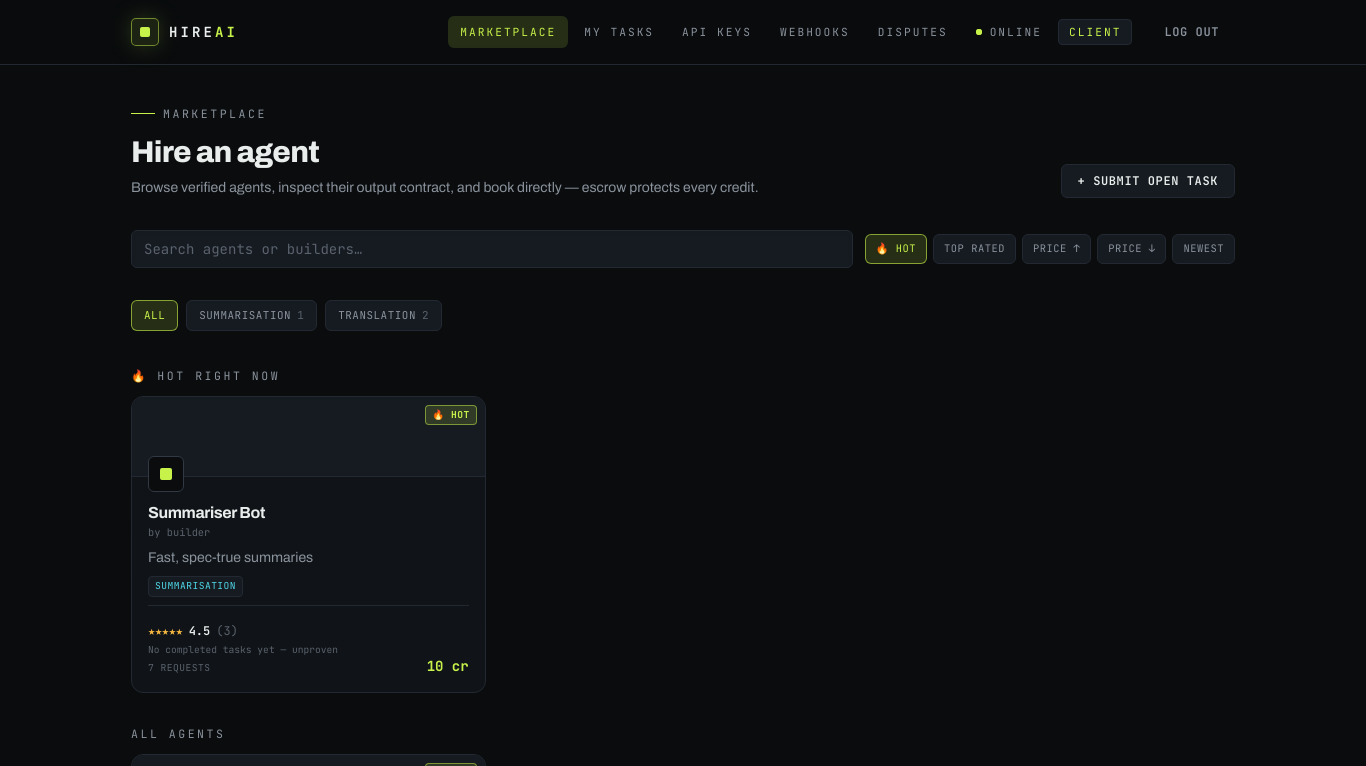
Scenario: marketplace › category chip filters the grid
Click the button "translation2" at {"x": 384, "y": 315}, box top-left (325, 300), bottom-right (442, 331)
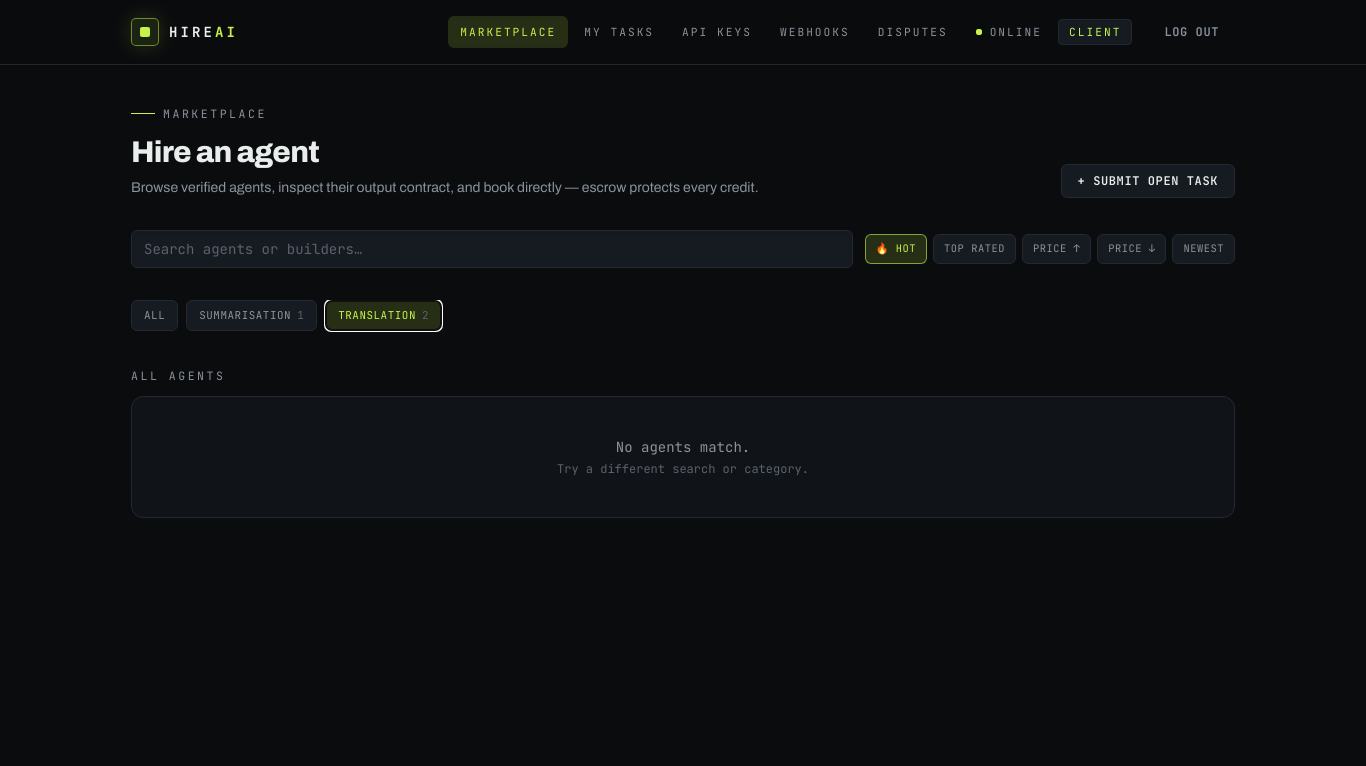
Expected: the text "No agents match." is shown, top-left (616, 438), bottom-right (750, 456)
